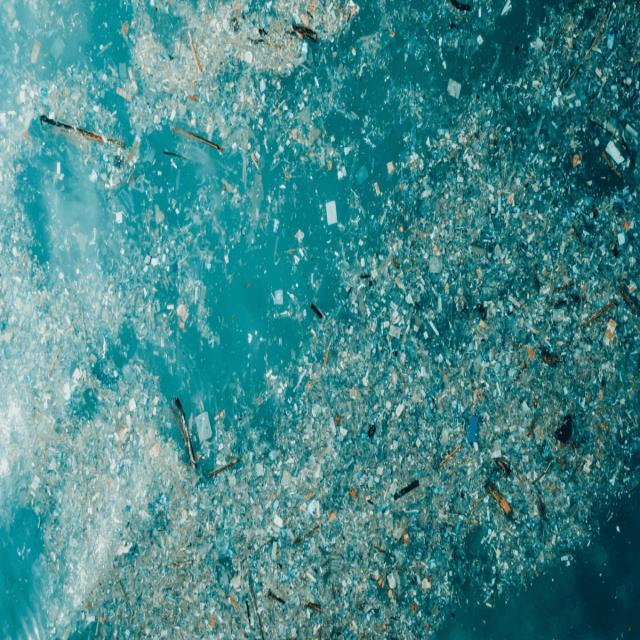plastic watse: (31, 223, 637, 637), (501, 8, 634, 191), (127, 0, 361, 94)
